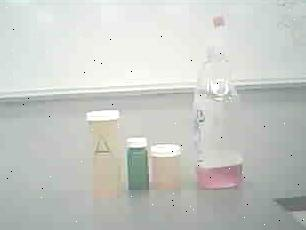Bottle A: (79, 103, 130, 200)
Bottle C: (150, 136, 187, 198), (124, 132, 154, 196)
hazard: (186, 6, 258, 197)
